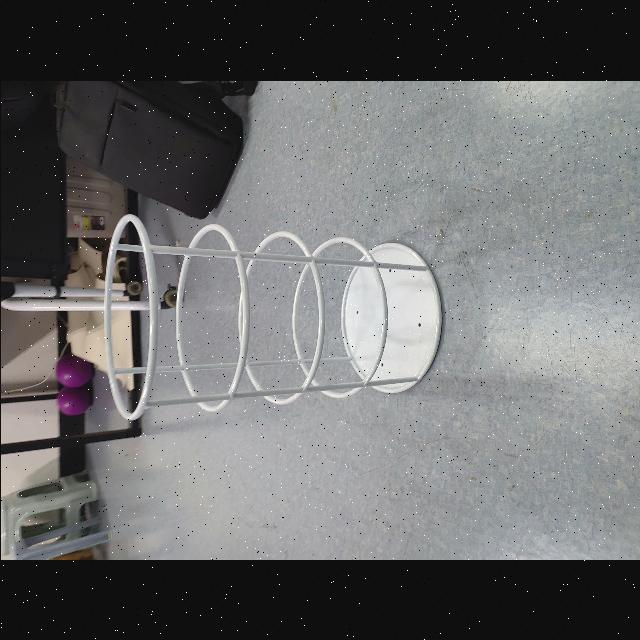S: (99, 210, 445, 426)
